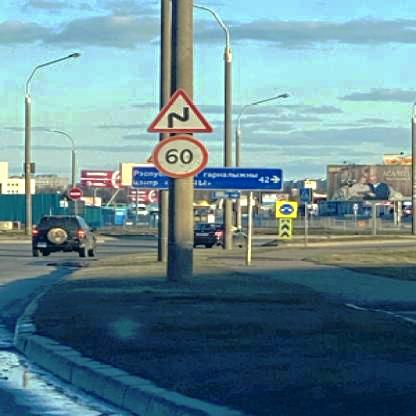Speed Limit -60-: (154, 132, 210, 182)
